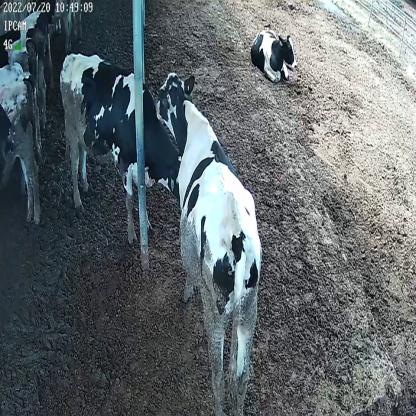cow: (152, 65, 263, 414), (58, 46, 180, 244), (249, 23, 297, 84)
